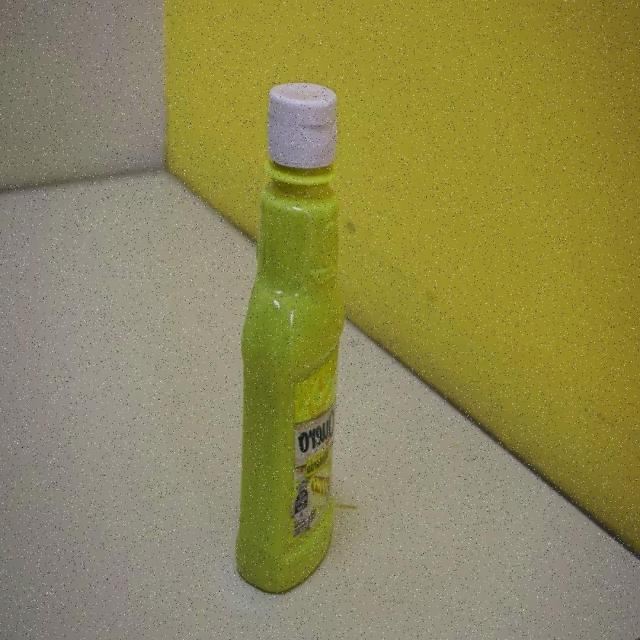Mustard: (235, 83, 346, 598)
